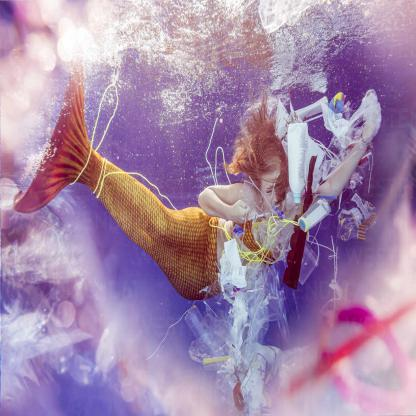bottle: (184, 305, 222, 356), (288, 122, 309, 208), (299, 196, 332, 234), (296, 96, 330, 120)
waste: (337, 194, 379, 244), (238, 351, 268, 413), (330, 91, 357, 149), (221, 241, 246, 295), (298, 236, 320, 288)
